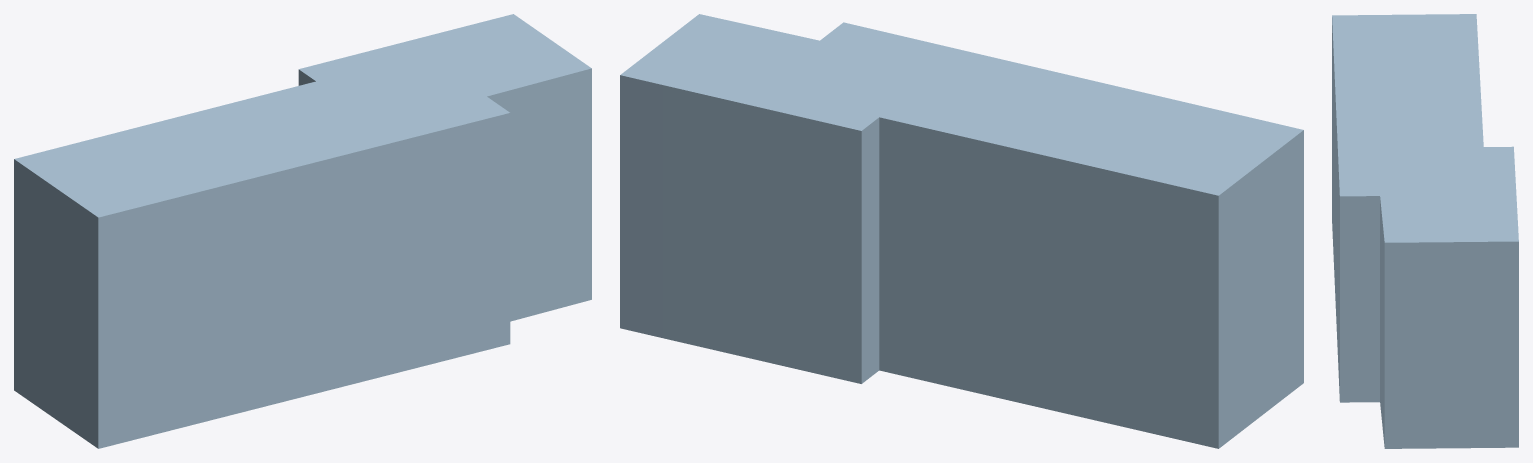
Rendered from osm_way_223859791.glb.
The picture shows the model from 3 angles, left to right: view 1: azimuth 30°, elevation 25°; view 2: azimuth 150°, elevation 25°; view 3: azimuth 270°, elevation 25°; orthographic projection. The views are drawn at different scales.
Parts seen in each view (by area): view 1: osm_way_223859791; view 2: osm_way_223859791; view 3: osm_way_223859791.
Part boxes in pixels (x1,y1,x2,y2): osm_way_223859791: [14, 14, 591, 448]; osm_way_223859791: [620, 14, 1303, 448]; osm_way_223859791: [1332, 14, 1518, 448].
Size of the model in its own units: 45.7 by 19.2 by 15.77.
